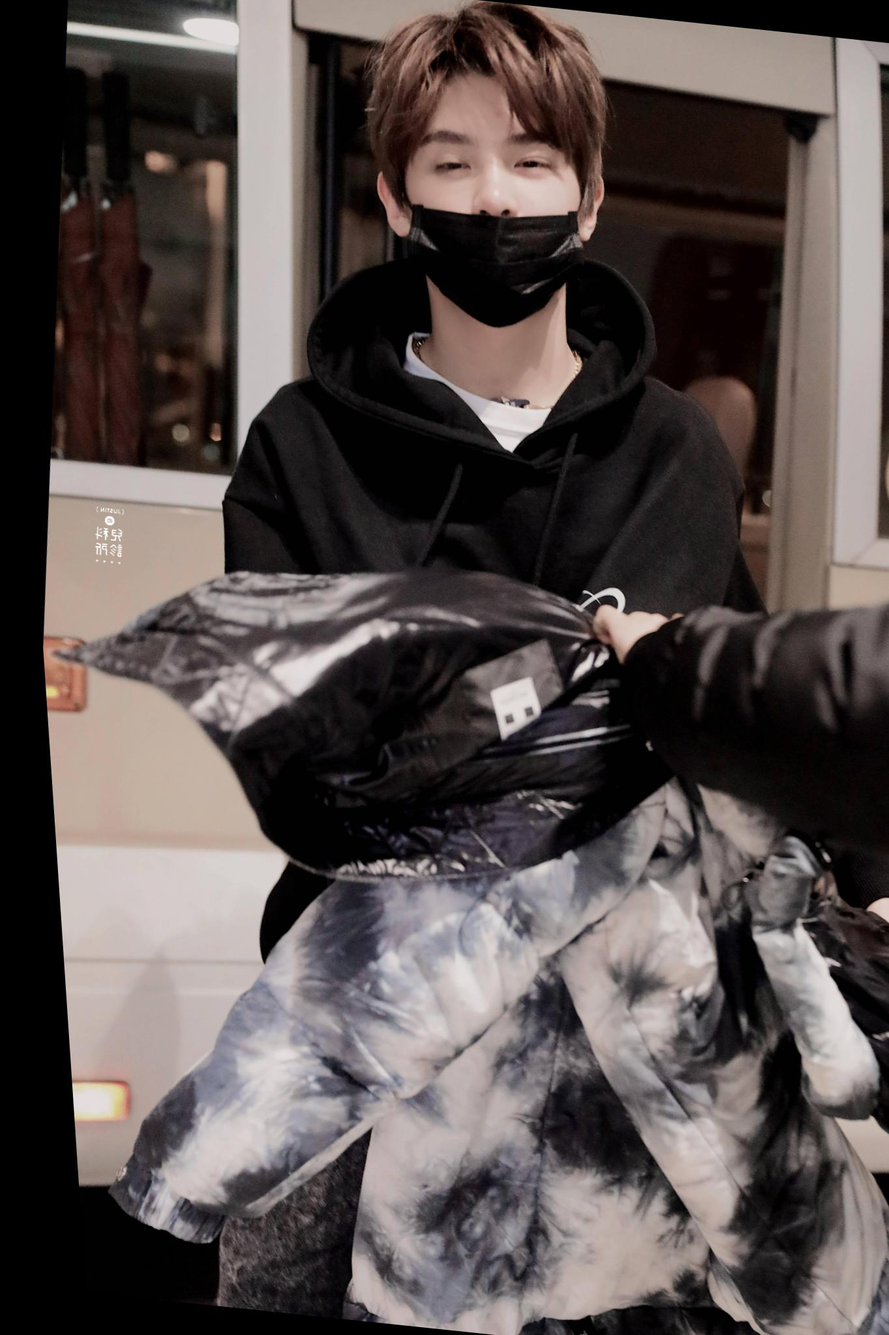WRONG: (388, 92, 597, 327)
